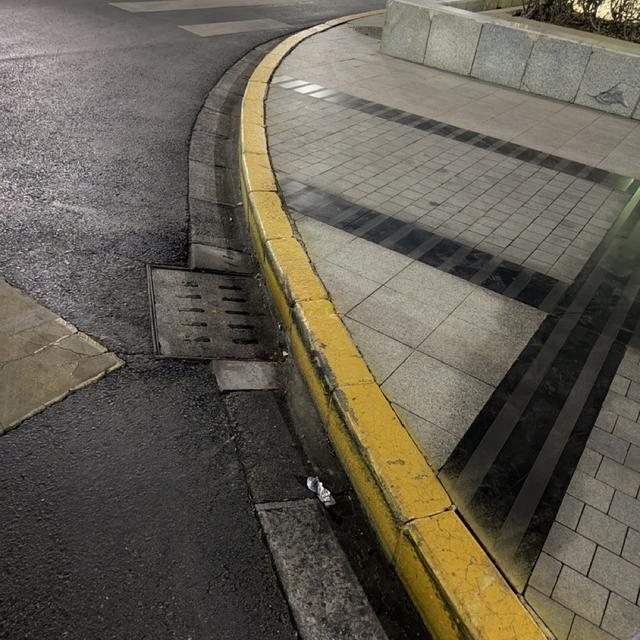curb: (240, 13, 547, 639)
